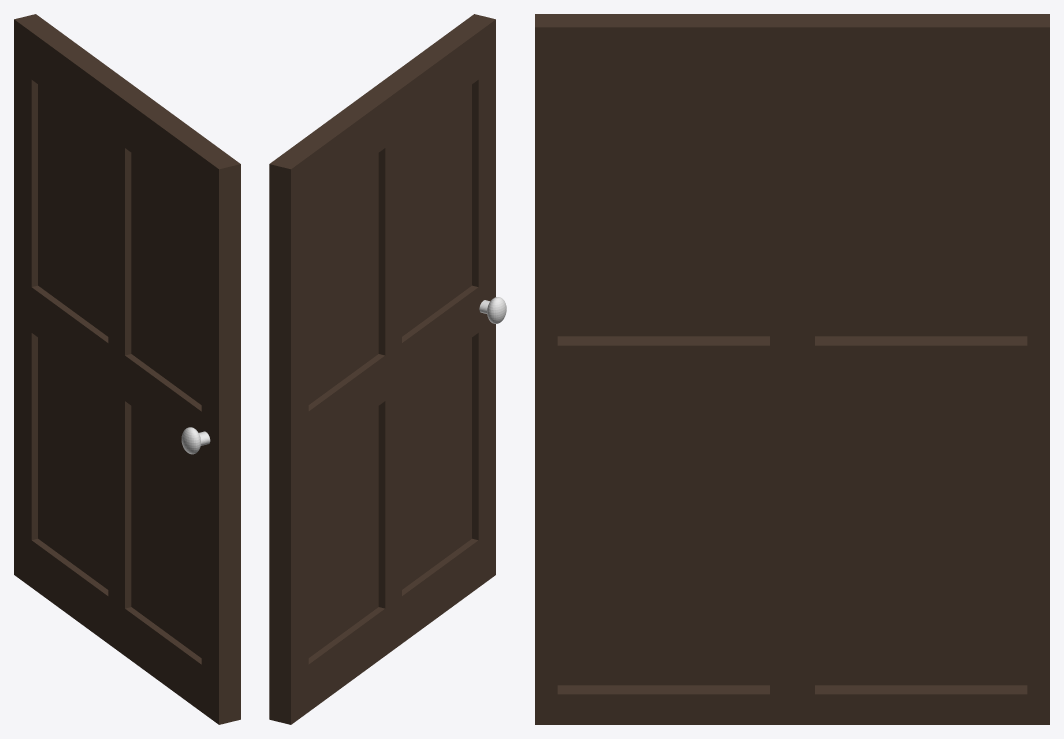
File: Door.fbx
3 renders of one model, left to right at view 1: azimuth 30°, elevation 25°; view 2: azimuth 150°, elevation 25°; view 3: azimuth 270°, elevation 25°, orthographic. The views are drawn at different scales.
Visible parts, largest first — view 1: Sphere; view 2: Sphere; view 3: Sphere.
Boxes of the visible parts, x1,y1,x2,y2 form: Sphere: [14, 14, 240, 724]; Sphere: [269, 14, 506, 724]; Sphere: [535, 14, 1049, 724].
Bounding box in the file's own units: 100 × 1223 × 818.
